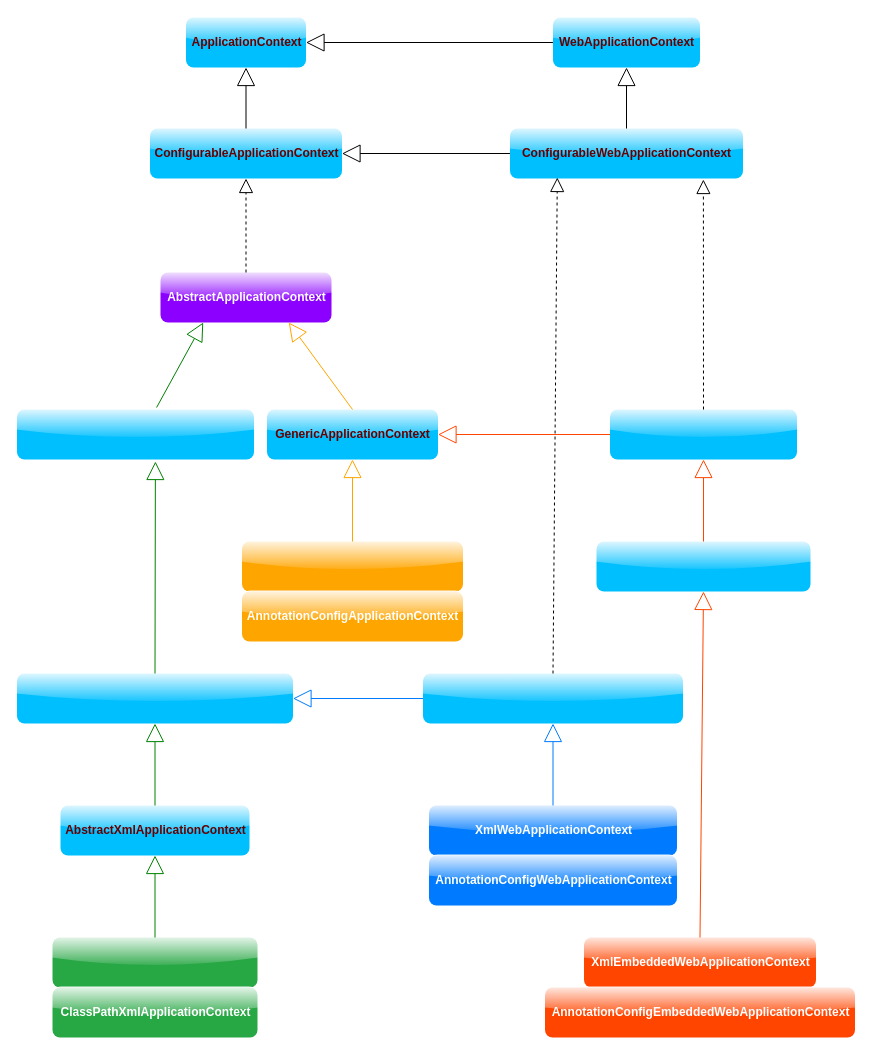
Image size: 872x1054. Some labels were removed from this diagram. The centre of each missing label's shape, as x and y in pixels:
AbstractRefreshableApplicationContext: the point at 135,434
AbstractRefreshableConfigApplicationContext: the point at 154,698
AbstractRefreshableWebApplicationContext: the point at 552,698
EmbeddedWebApplicationContext: the point at 703,566
FileSystemXmlApplicationContext: the point at 154,962
GenericWebApplicationContext: the point at 703,434
GenericXmlApplicationContext: the point at 352,566
